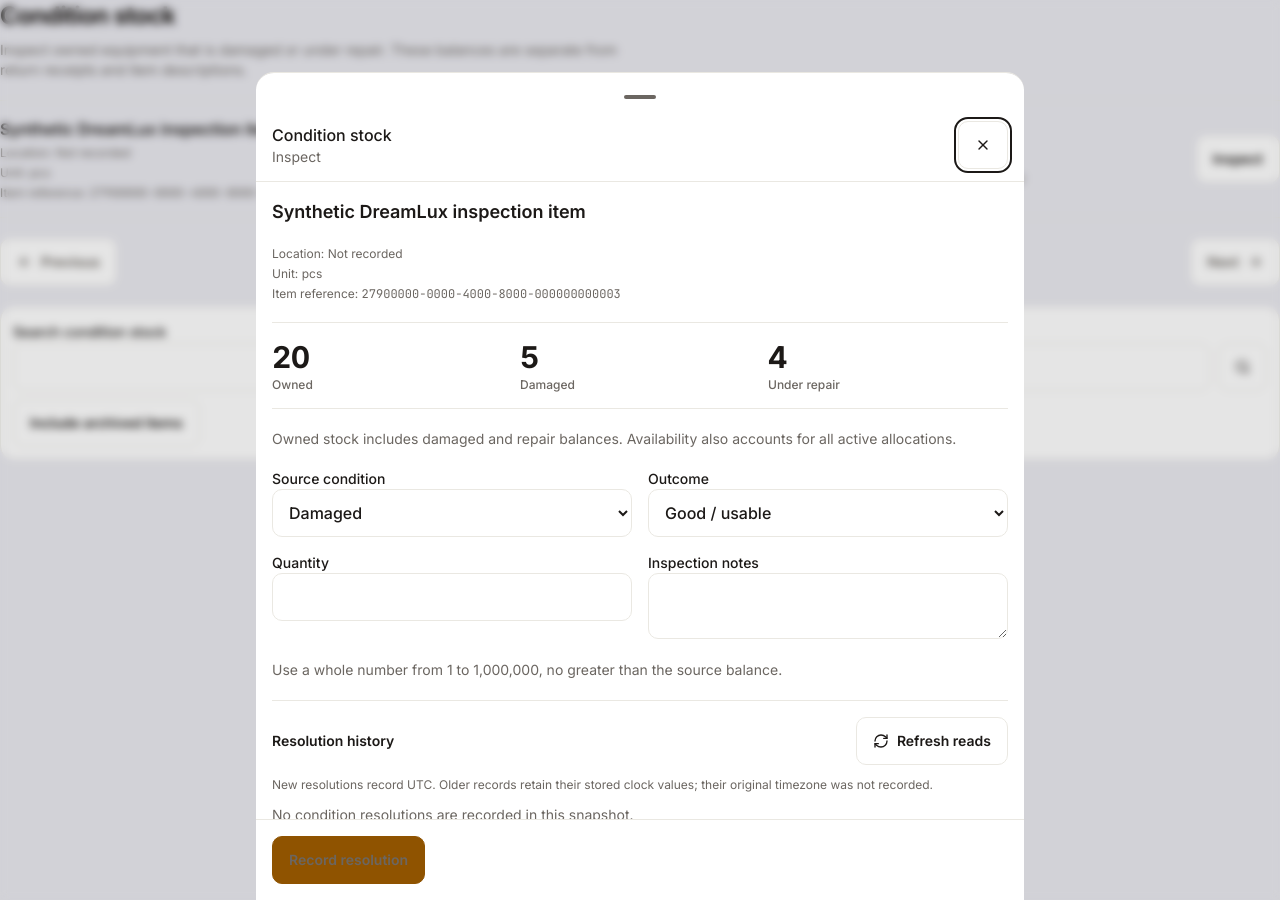
it: condition-stock operator interface › offers deliberate editing, not false commit uncertainty, after a first rate limit in en
The image size is (1280, 900).
expect the heading "Synthetic DreamLux inspection item" is shown: met, box [272,201,586,222]
Type "2" into the field labelled "Quantity" at (452, 597), box [272,573,632,621]
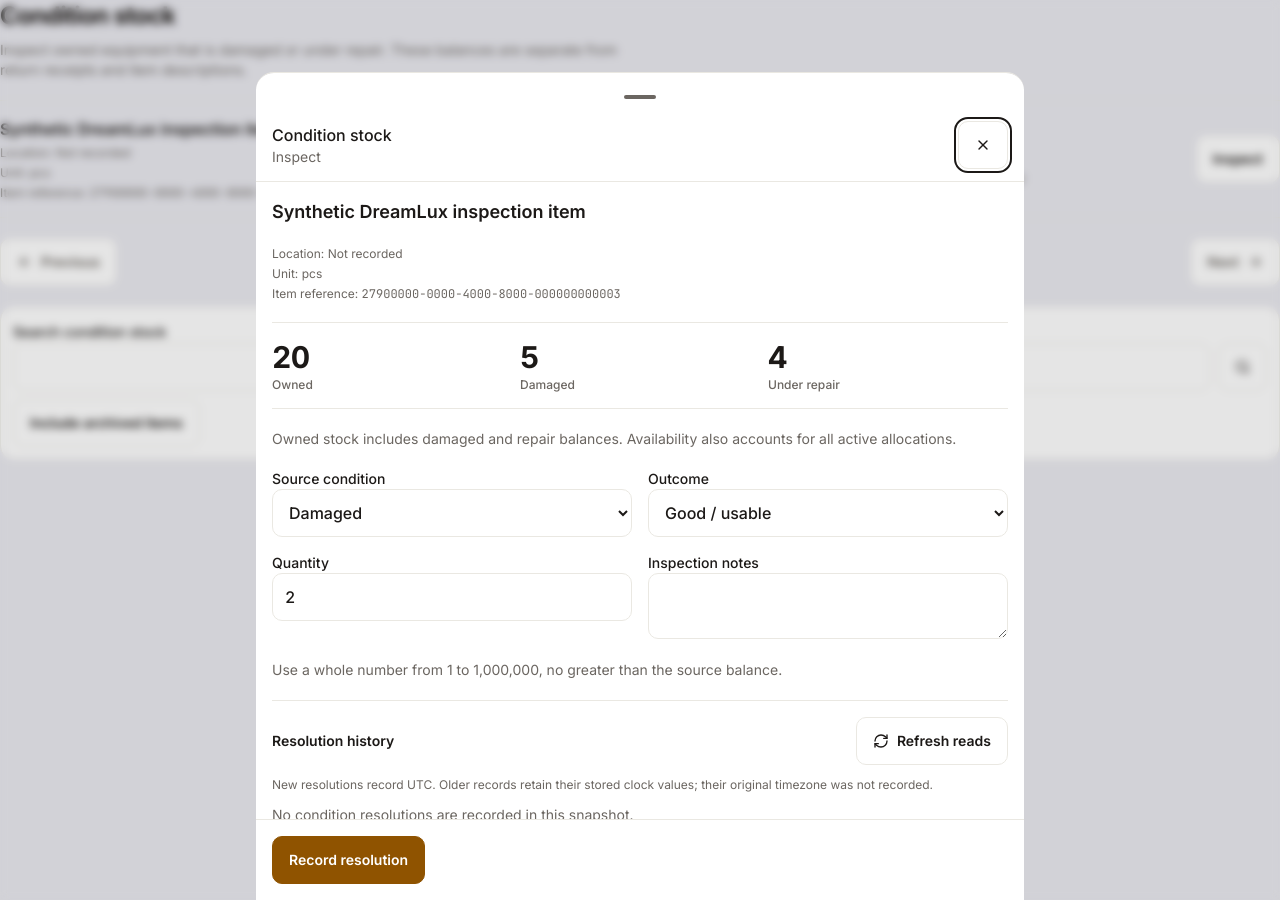
Click the button "Record resolution" at (349, 860), box [272,836,425,884]
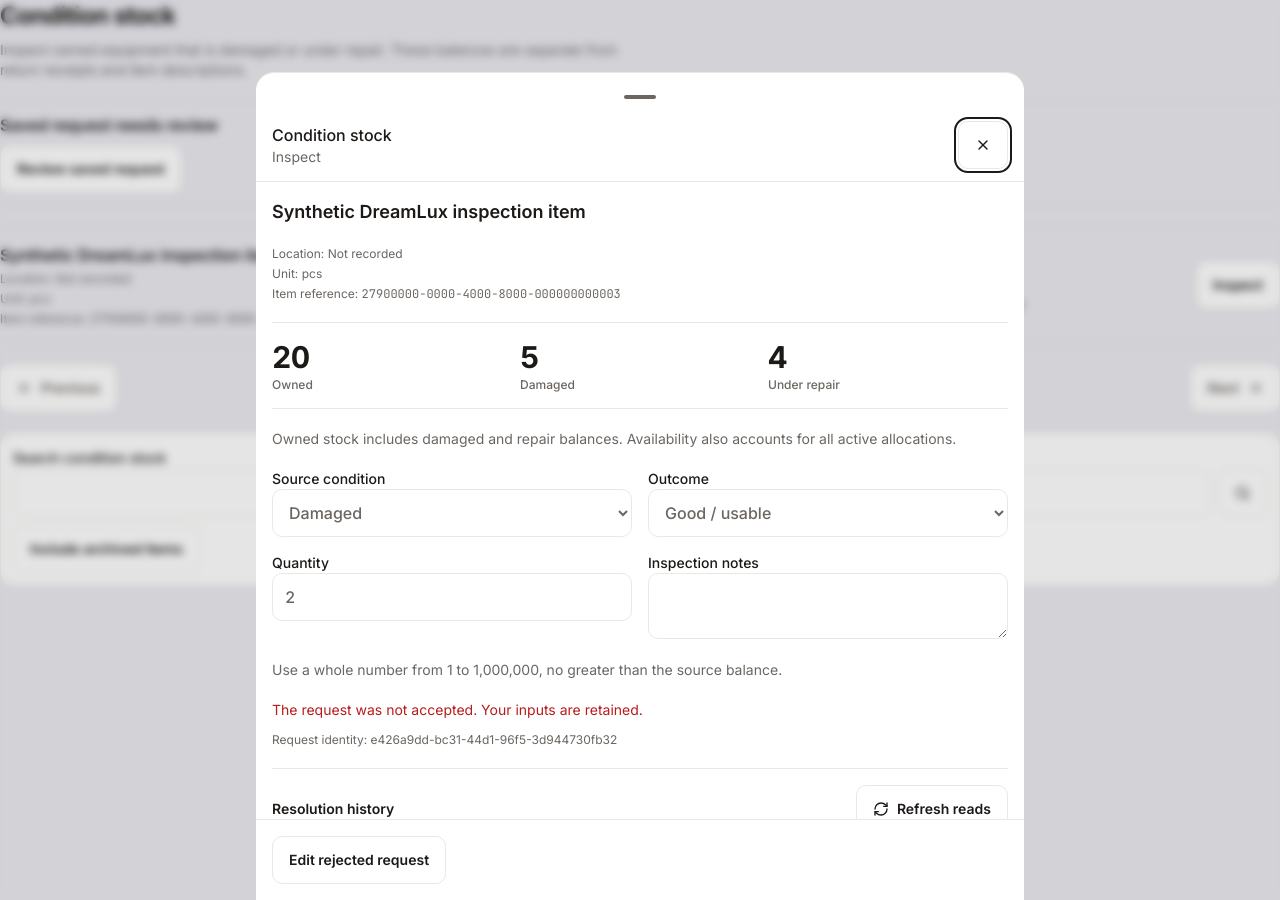
expect the text "The request was not accepted. Your inputs are retained." is shown: met, box [272,701,643,718]
Click the button "Edit rejected request" at (359, 860), box [272,836,446,884]
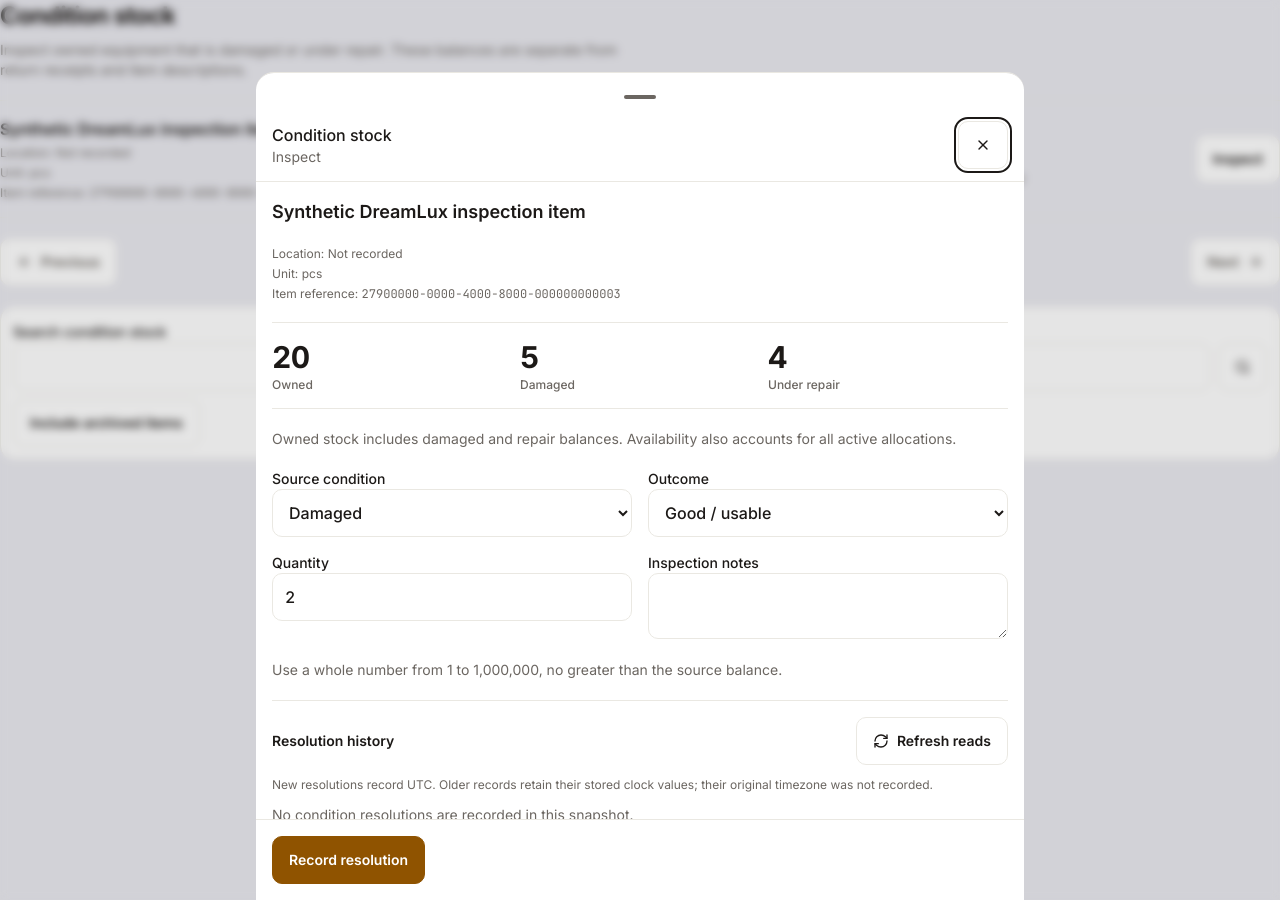
Click the button "Record resolution" at (349, 860), box [272,836,425,884]
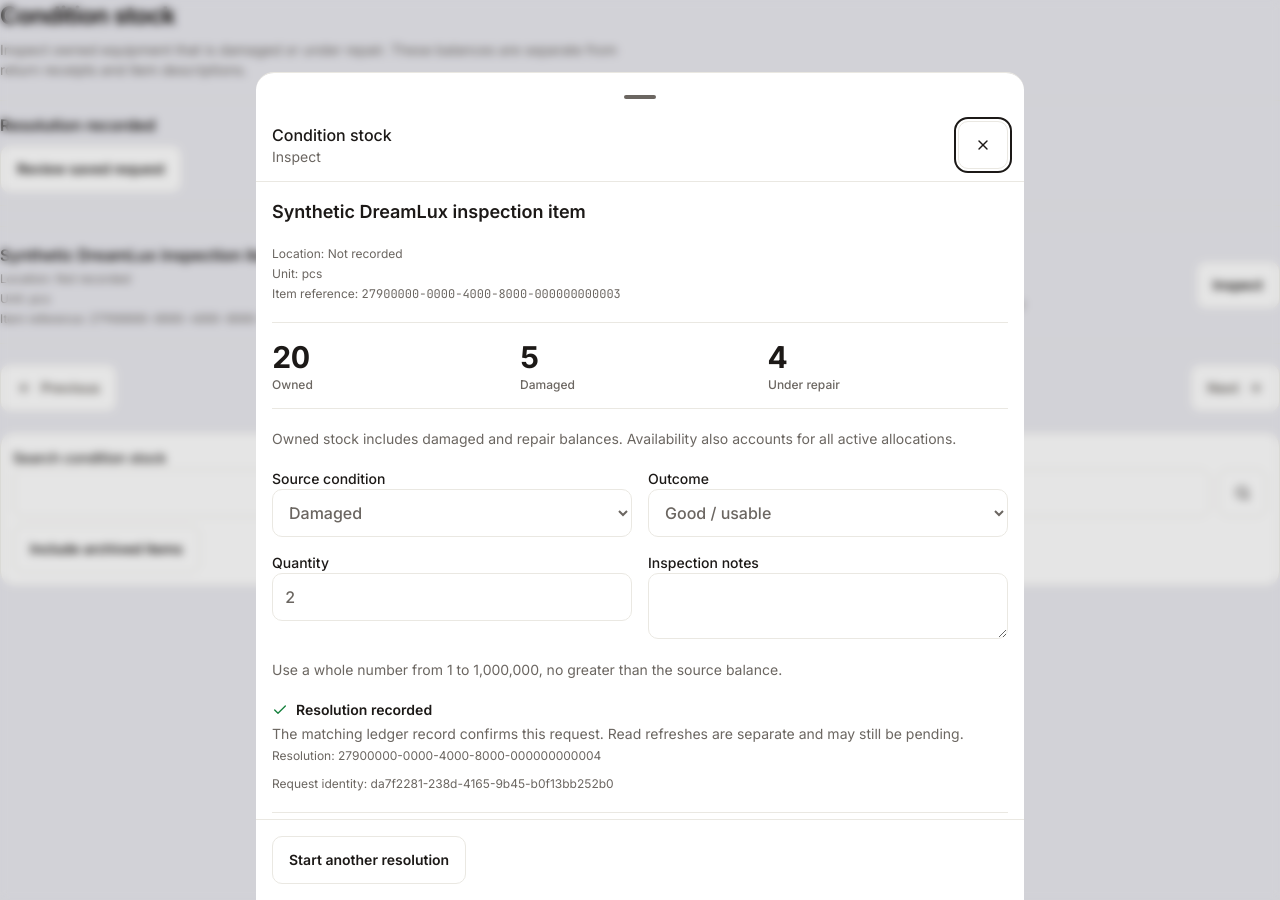
expect the text "Resolution recorded" is shown: met, box [272,701,432,718]
